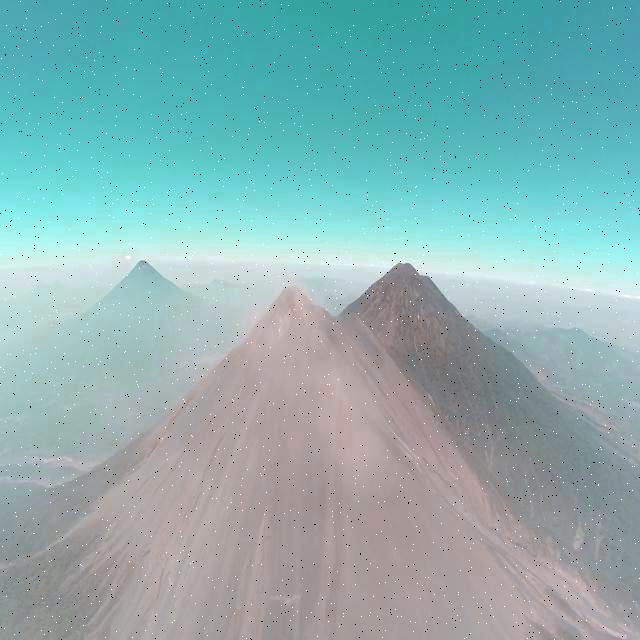Summit: (246, 274, 338, 342)
